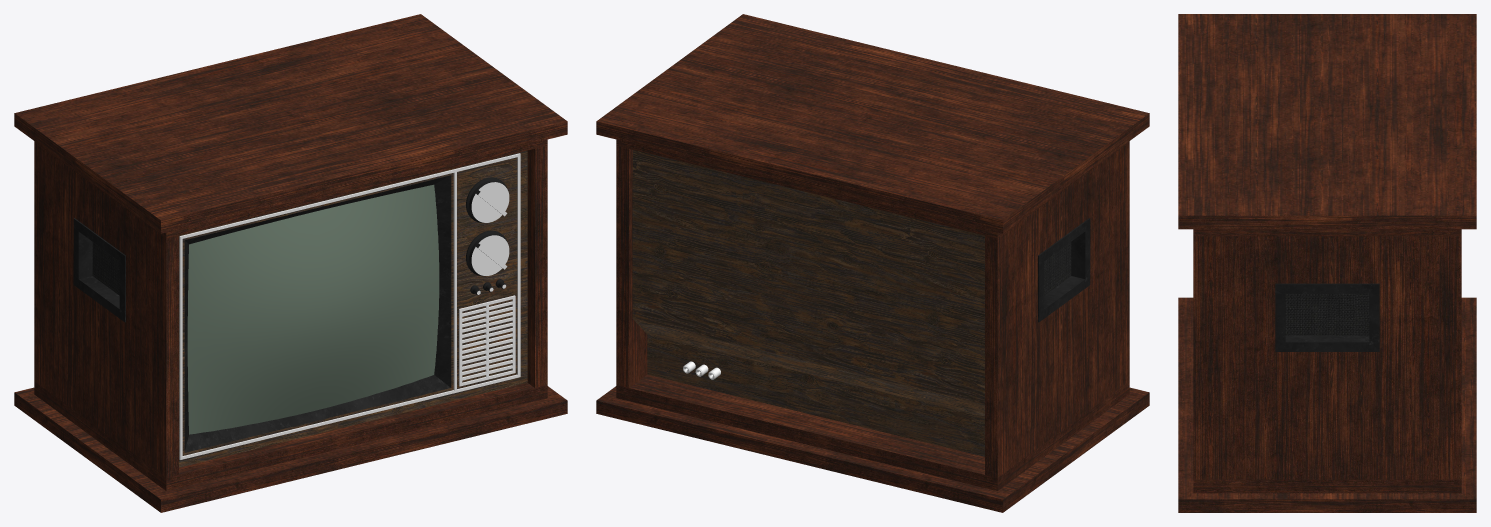
Rendered from tv_old_1960s.glb.
The picture shows the model from 3 angles, left to right: view 1: azimuth 30°, elevation 25°; view 2: azimuth 150°, elevation 25°; view 3: azimuth 270°, elevation 25°; orthographic projection.
Parts seen in each view (by area): view 1: Cube, Plane.003, Cube.003, Plane.004, Cube.001, Cube.005, Cube.008, Cube.002, Cube.009, Cube.004, Cube.007, Cylinder.000 (+2 smaller); view 2: Plane, Cube, Cube.003, Cube.005, Cube.001, Cube.002, Cube.004, Cube.007, Plane.002; view 3: Cube, Cube.002, Cube.001, Cube.005, Cube.006, Plane.001, Cube.004.
Boxes of the visible parts, bbox=[...] form: Cube: bbox=[14, 14, 567, 233]; Plane.003: bbox=[187, 184, 439, 434]; Cube.003: bbox=[34, 142, 178, 477]; Plane.004: bbox=[179, 150, 527, 467]; Cube.001: bbox=[14, 386, 567, 512]; Cube.005: bbox=[34, 381, 547, 490]; Cube.008: bbox=[179, 153, 520, 459]; Cube.002: bbox=[527, 145, 547, 387]; Cube.009: bbox=[459, 295, 515, 386]; Cube.004: bbox=[34, 139, 547, 238]; Cube.007: bbox=[73, 218, 125, 322]; Cylinder.000: bbox=[466, 230, 509, 275]; Plane: bbox=[632, 150, 984, 456]; Cube: bbox=[596, 14, 1149, 233]; Cube.003: bbox=[985, 142, 1129, 477]; Cube.005: bbox=[616, 374, 1129, 490]; Cube.001: bbox=[596, 386, 1149, 512]; Cube.002: bbox=[616, 145, 647, 387]; Cube.004: bbox=[616, 139, 1129, 238]; Cube.007: bbox=[1038, 218, 1090, 322]; Plane.002: bbox=[1044, 242, 1071, 295]; Cube: bbox=[1178, 14, 1476, 229]; Cube.002: bbox=[1193, 236, 1461, 479]; Cube.001: bbox=[1178, 297, 1476, 512]; Cube.005: bbox=[1193, 479, 1461, 493]; Cube.006: bbox=[1275, 283, 1379, 351]; Plane.001: bbox=[1285, 293, 1369, 335]; Cube.004: bbox=[1193, 229, 1461, 236].
Bounding box in the file's own units: 3.2 × 2.2 × 2.
6 materials, 4 textured.
